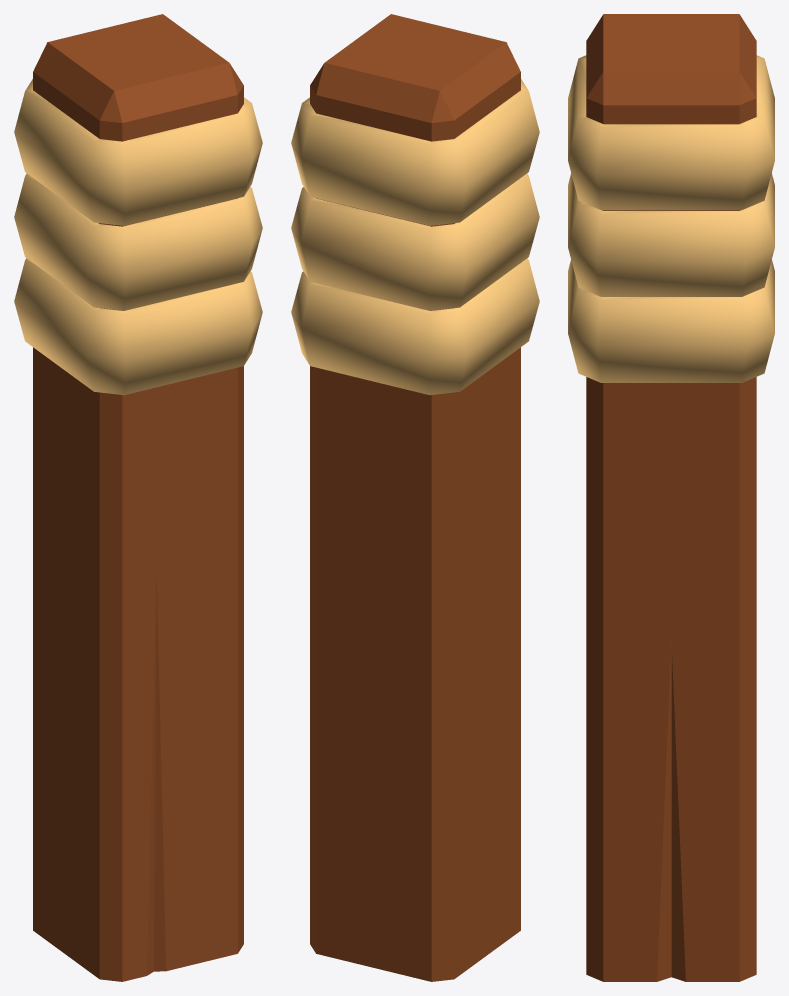
The model's file is m_dec_dung_lever_pole.fbx.
3 views of the same model, side by side, from view 1: azimuth 30°, elevation 25°; view 2: azimuth 150°, elevation 25°; view 3: azimuth 270°, elevation 25° (orthographic). The views are drawn at different scales.
Parts seen in each view (by area): view 1: m_dec_dung_lever_pole; view 2: m_dec_dung_lever_pole; view 3: m_dec_dung_lever_pole.
Boxes of the visible parts, x1,y1,x2,y2 form: m_dec_dung_lever_pole: (14, 14, 262, 981); m_dec_dung_lever_pole: (291, 14, 539, 981); m_dec_dung_lever_pole: (568, 14, 774, 981).
Bounding box in the file's own units: 0.3356 × 1.62 × 0.3356.
